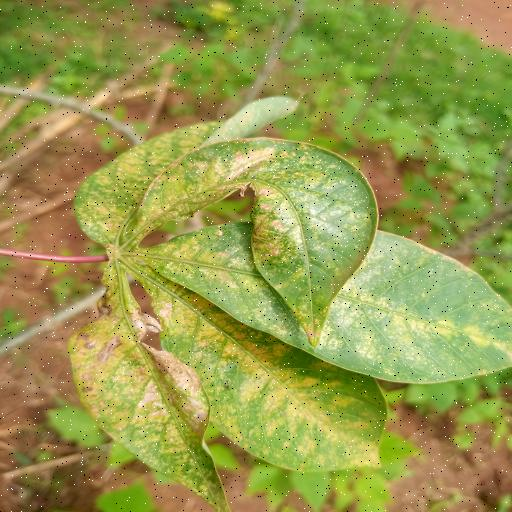Cassava_Mosaic: (67, 91, 512, 512)
